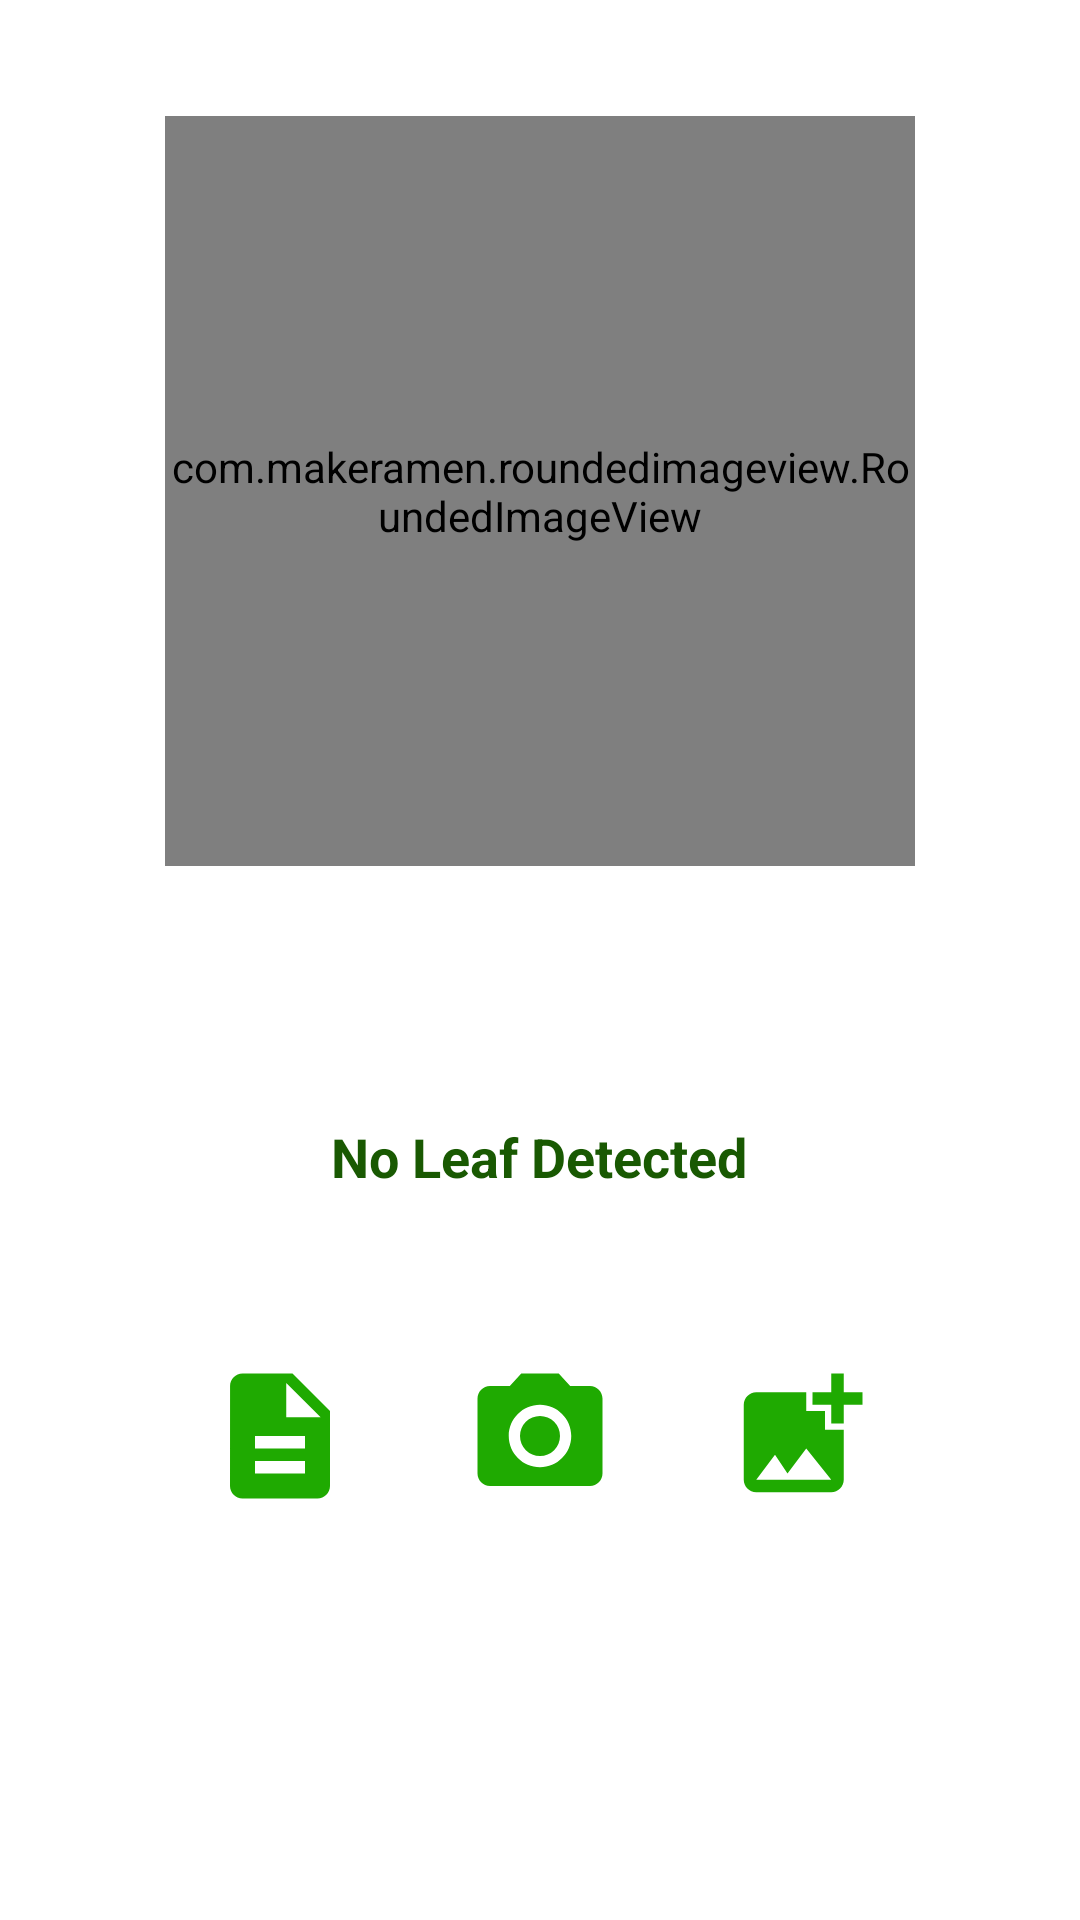

Screen size 1080 x 1920. Icon name, then its center in pixels as (x=x, y=y):
add photo alternate: (x=803, y=1433)
camera: (x=540, y=1429)
description: (x=280, y=1436)
